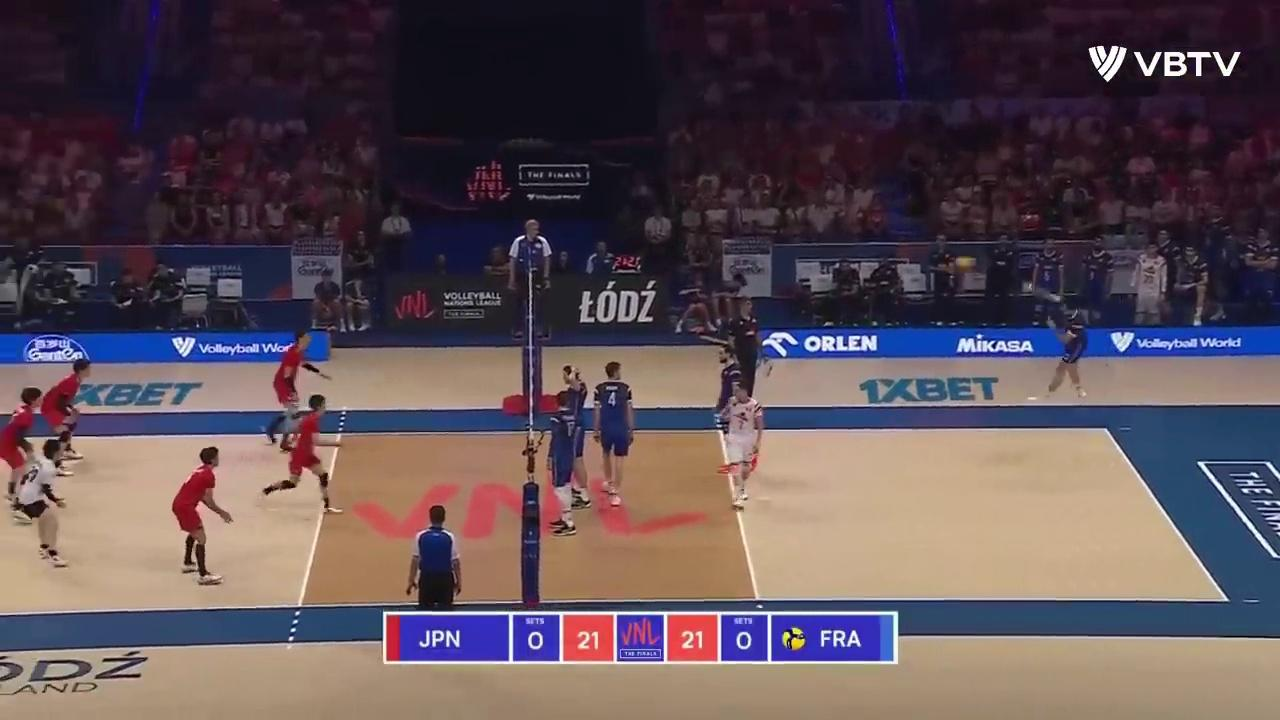ball: (955, 257, 975, 269)
